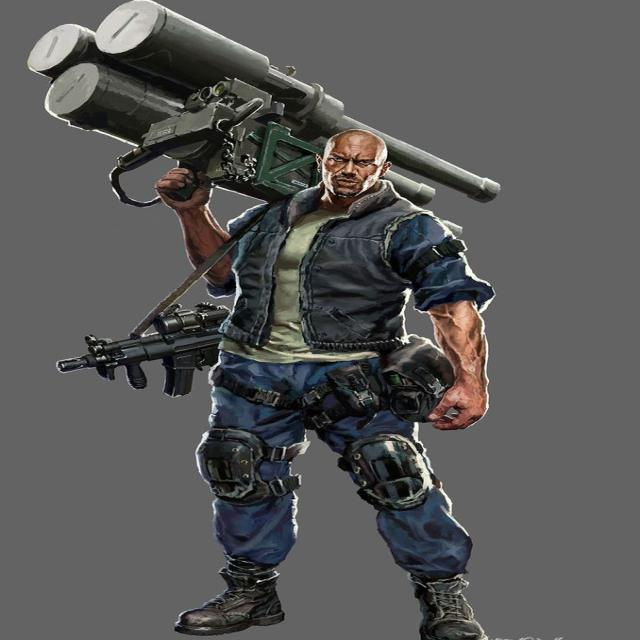Weapon: (57, 303, 228, 397)
